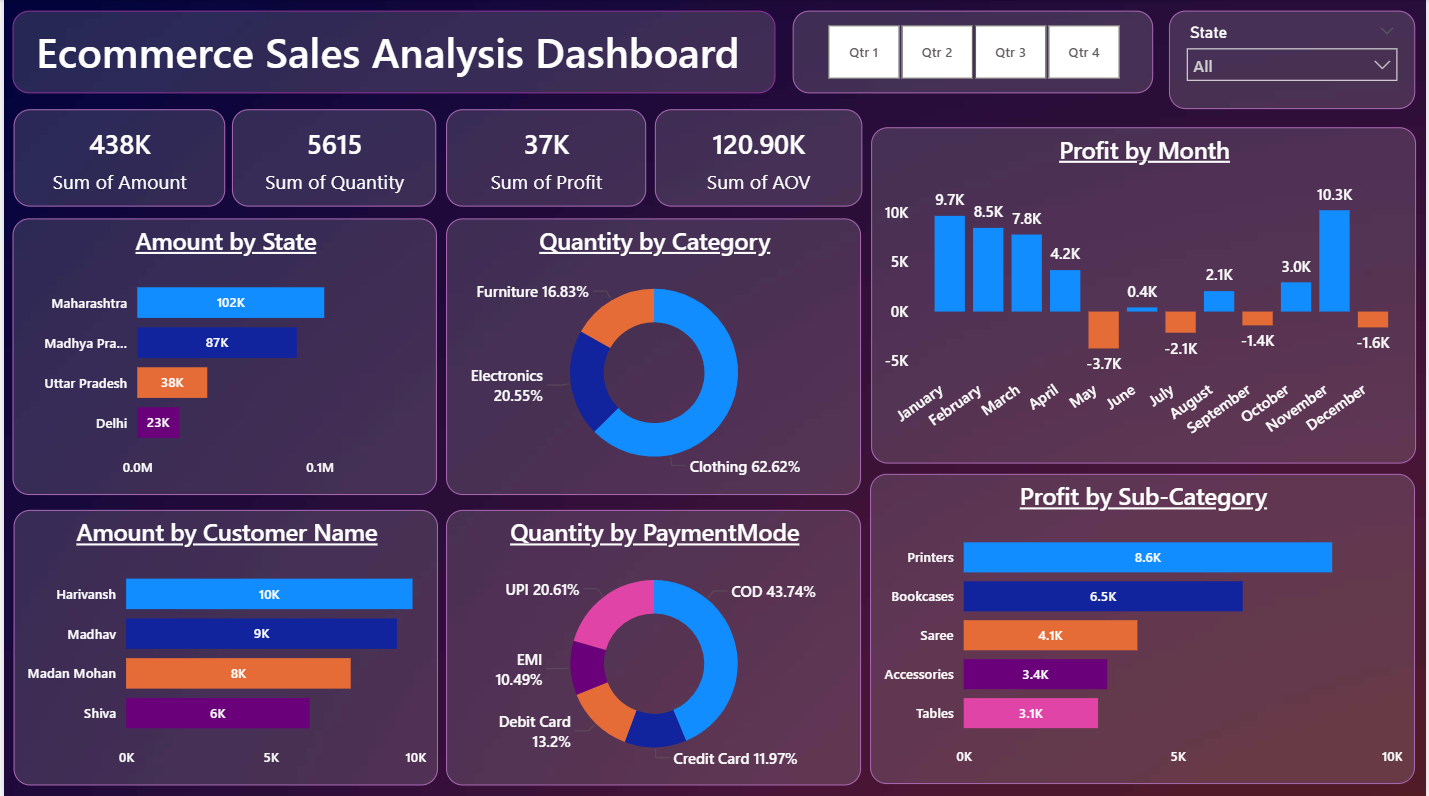

What the dashboard file says about the page in this screenshot:
{"tool":"powerbi","page":{"name":"Page 1","canvas":[1280,720],"ordinal":0},"visuals":[{"type":"textbox","box":[7.4,9.5,686.3,74.1],"z":0},{"type":"columnChart","title":" Profit by Month","fields":{"Category":["Orders.Order Date.Variation.Date Hierarchy.Month"],"Y":["Sum(Details.Profit)"]},"box":[780.6,114.4,490.4,302.9],"z":1},{"type":"barChart","title":" Profit by Sub-Category","fields":{"Category":["Details.Sub-Category"],"Y":["Sum(Details.Profit)"],"Series":["Details.Sub-Category"]},"box":[779.5,426.8,490.4,279.6],"z":2},{"type":"donutChart","title":"Quantity by Category","fields":{"Series":["Details.Category"],"Y":["Sum(Details.Quantity)"]},"box":[398.2,197,373.9,248.9],"z":3},{"type":"donutChart","title":"Quantity by PaymentMode","fields":{"Series":["Details.PaymentMode"],"Y":["Sum(Details.Quantity)"]},"box":[398.2,458.6,373.9,247.8],"z":4},{"type":"card","fields":{"Values":["Sum(Details.Amount)"]},"box":[8.5,98.5,190.6,87.9],"z":5},{"type":"card","fields":{"Values":["Sum(Details.Quantity)"]},"box":[205.5,98.5,184.3,87.9],"z":6},{"type":"card","fields":{"Values":["Sum(Details.Profit)"]},"box":[398.2,98.5,180.1,87.9],"z":7},{"type":"card","fields":{"Values":["Sum(Details.AOV)"]},"box":[585.7,98.5,186.4,87.9],"z":8},{"type":"barChart","title":"Amount by State","fields":{"Category":["Orders.State"],"Y":["Sum(Details.Amount)"],"Series":["Orders.State"]},"box":[7.4,197,382.4,248.9],"z":9},{"type":"barChart","title":"Amount by Customer Name","fields":{"Y":["Sum(Details.Amount)"],"Category":["Orders.CustomerName"],"Series":["Orders.CustomerName"]},"box":[8.5,458.6,382.4,247.8],"z":10},{"type":"slicer","fields":{"Values":["Orders.Order Date.Variation.Date Hierarchy.Quarter"]},"box":[709.9,9.5,324.4,74.4],"z":11},{"type":"slicer","fields":{"Values":["Orders.State"]},"box":[1048.6,9.5,221.4,88.7],"z":12}]}

Visuals, with their boxes in screenshot pixels (x1, y1, x2, y2), scaled from the page's 1280x720 canvas onto the 1429x796 screenshot:
textbox: bbox=[8, 11, 774, 92]
" Profit by Month" columnChart: bbox=[871, 126, 1419, 461]
" Profit by Sub-Category" barChart: bbox=[870, 472, 1418, 781]
"Quantity by Category" donutChart: bbox=[445, 218, 862, 493]
"Quantity by PaymentMode" donutChart: bbox=[445, 507, 862, 781]
card - Sum(Details.Amount): bbox=[9, 109, 222, 206]
card - Sum(Details.Quantity): bbox=[229, 109, 435, 206]
card - Sum(Details.Profit): bbox=[445, 109, 646, 206]
card - Sum(Details.AOV): bbox=[654, 109, 862, 206]
"Amount by State" barChart: bbox=[8, 218, 435, 493]
"Amount by Customer Name" barChart: bbox=[9, 507, 436, 781]
slicer - Orders.Order Date.Variation.Date Hierarchy.Quarter: bbox=[793, 11, 1155, 93]
slicer - Orders.State: bbox=[1171, 11, 1418, 109]
